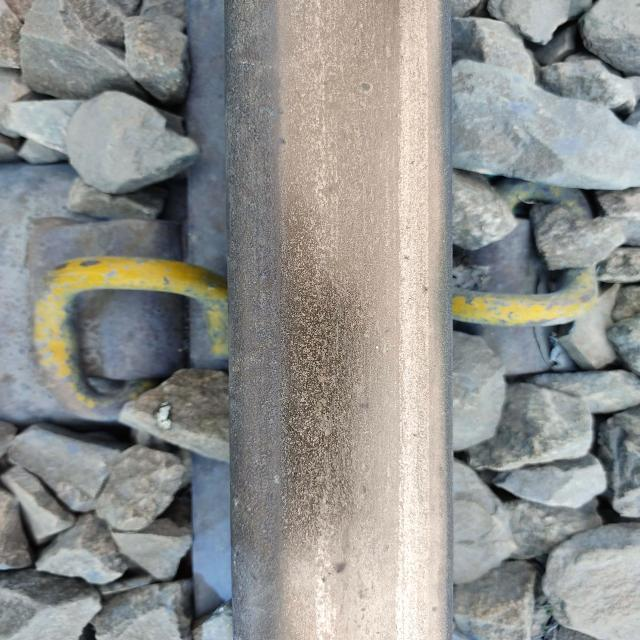Good Fasteners: (0, 223, 229, 472), (422, 234, 640, 369)
